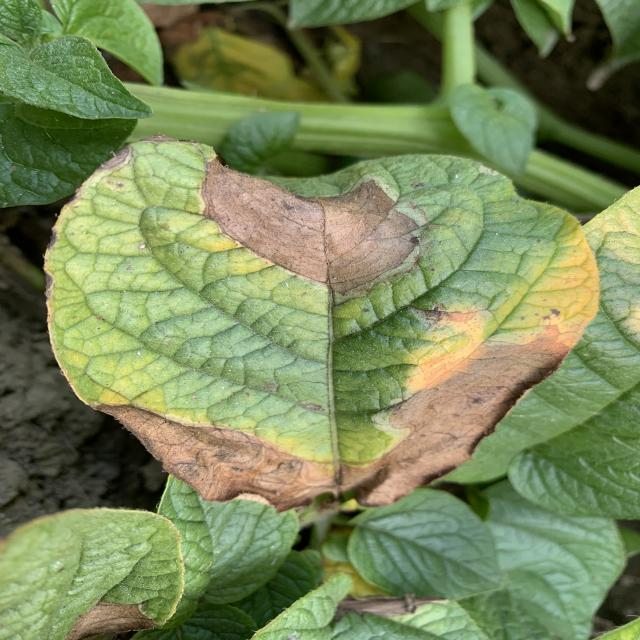lateblight: (95, 360, 558, 510), (202, 161, 418, 294), (415, 294, 597, 385)
